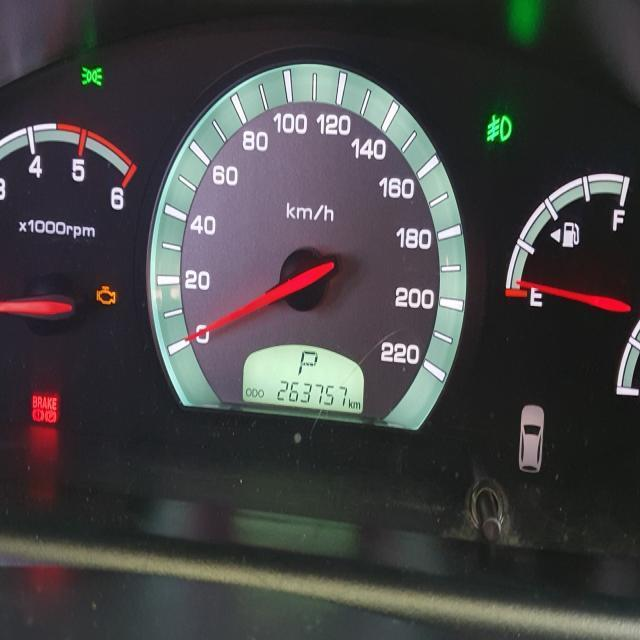FrontFogLight: (484, 112, 512, 142)
SideLamp: (80, 65, 102, 86)
